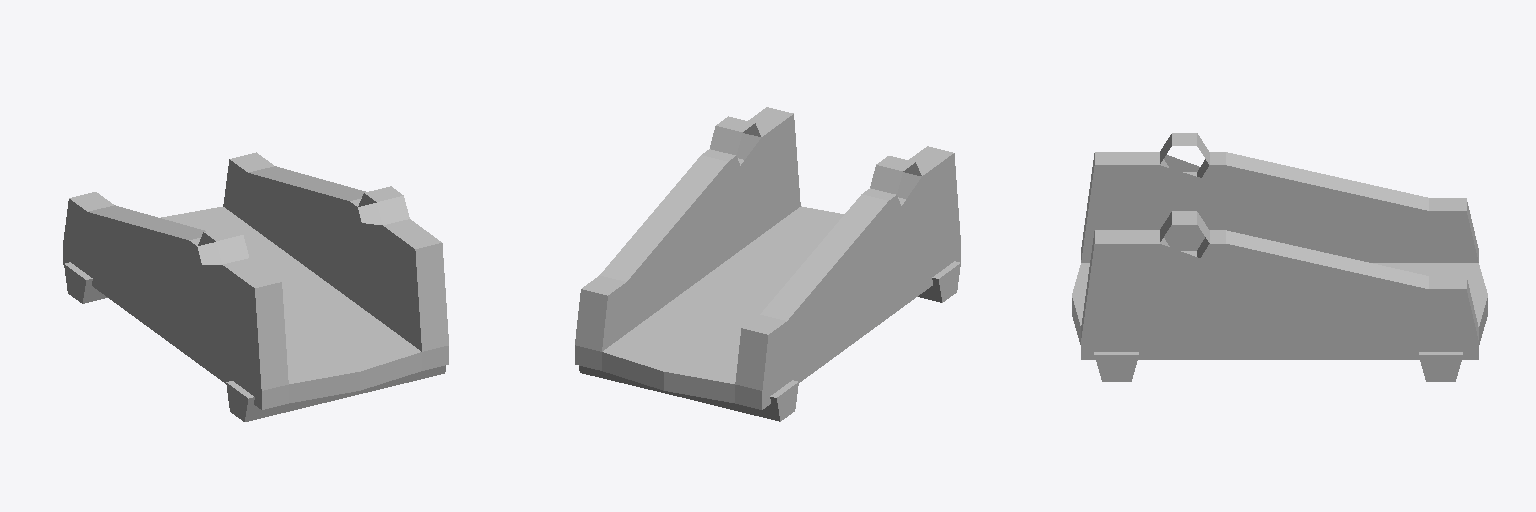
The model's file is cannon_carrier_001.obj.
3 renders of one model, left to right at view 1: azimuth 30°, elevation 25°; view 2: azimuth 150°, elevation 25°; view 3: azimuth 270°, elevation 25°, orthographic.
Visible parts, largest first — view 1: cannon_carrier_001_Cube; view 2: cannon_carrier_001_Cube; view 3: cannon_carrier_001_Cube.
Boxes of the visible parts, x1=… form: cannon_carrier_001_Cube: x1=63, y1=152, x2=448, y2=421; cannon_carrier_001_Cube: x1=575, y1=107, x2=960, y2=421; cannon_carrier_001_Cube: x1=1072, y1=133, x2=1487, y2=381.
Size of the model in its own units: 0.9022 by 0.6626 by 1.62.